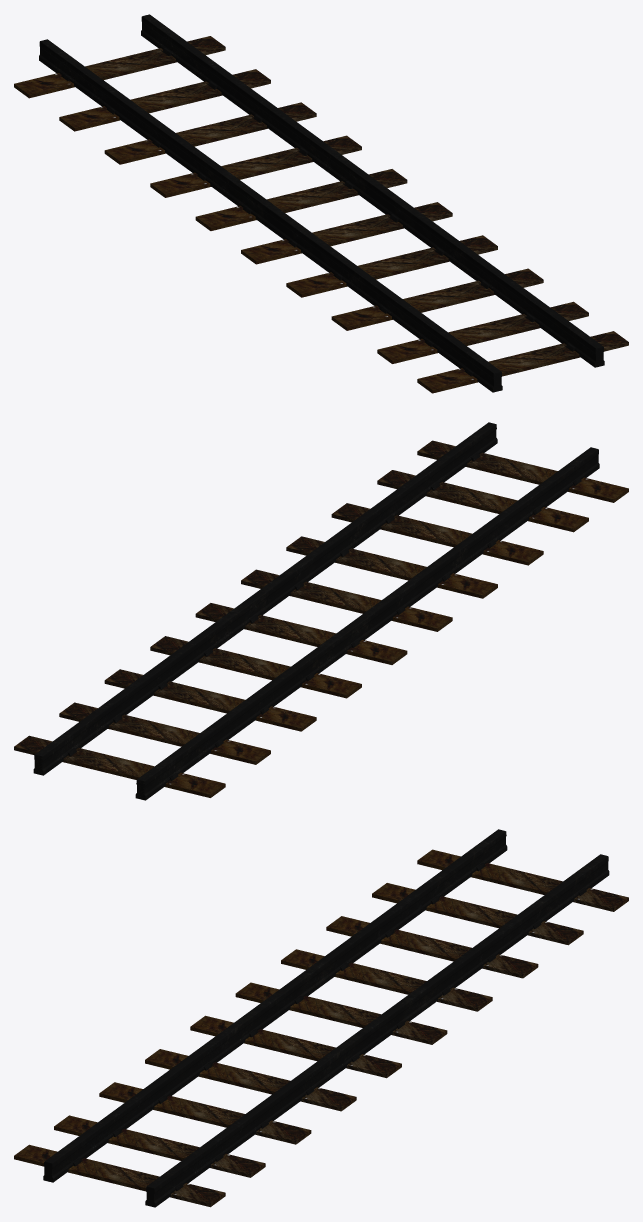
The model's file is track01.fbx.
The picture shows the model from 3 angles, top to bottom: view 1: azimuth 30°, elevation 25°; view 2: azimuth 150°, elevation 25°; view 3: azimuth 330°, elevation 25°; orthographic projection.
Visible parts, largest first — view 1: track01; view 2: track01; view 3: track01.
Part boxes in pixels (x1,y1,x2,y2): track01: (14,14,628,393); track01: (14,422,628,800); track01: (14,829,628,1207).
Size of the model in its own units: 200 by 20 by 800.
1 material, 1 textured.
